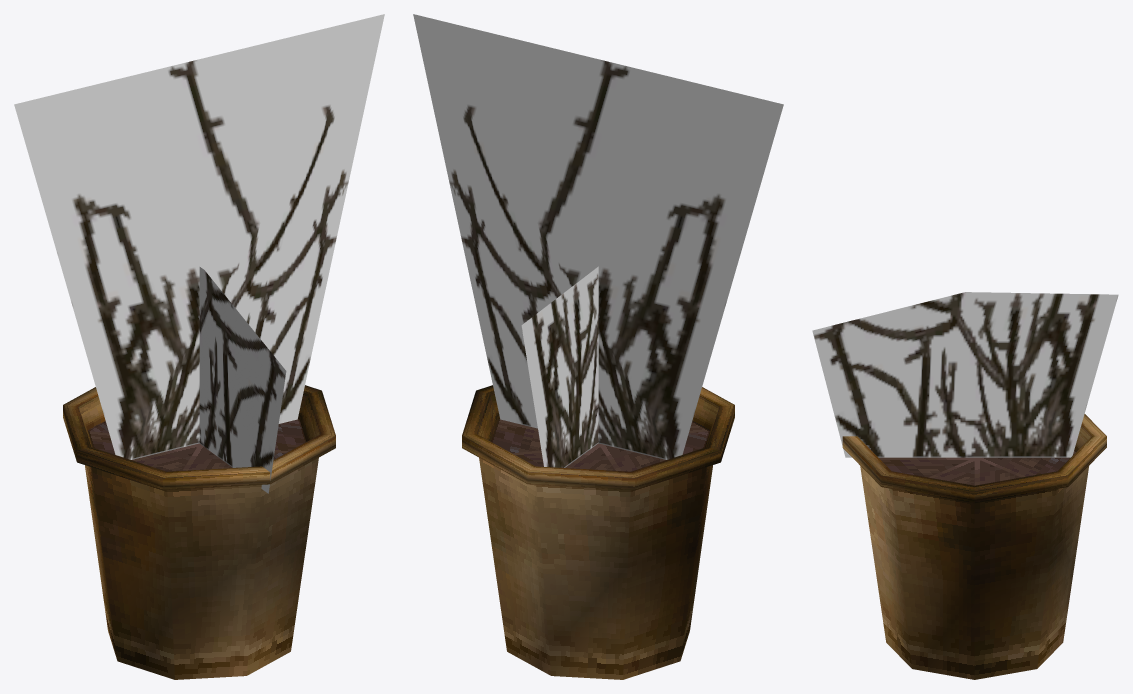
Rendered from potted_plant_4.fbx.
3 renders of one model, left to right at view 1: azimuth 30°, elevation 25°; view 2: azimuth 150°, elevation 25°; view 3: azimuth 270°, elevation 25°, orthographic. The views are drawn at different scales.
Visible parts, largest first — view 1: mesh_1, mesh_0; view 2: mesh_1, mesh_0; view 3: mesh_0, mesh_1.
Boxes of the visible parts, bbox=[...] form: mesh_1: bbox=[14, 14, 384, 493]; mesh_0: bbox=[63, 385, 335, 679]; mesh_1: bbox=[413, 14, 783, 467]; mesh_0: bbox=[462, 385, 734, 679]; mesh_0: bbox=[842, 414, 1106, 679]; mesh_1: bbox=[812, 292, 1118, 457].
Bounding box in the file's own units: 53.3 × 79.95 × 40.81.
Materials: 2 (2 with a texture image).
